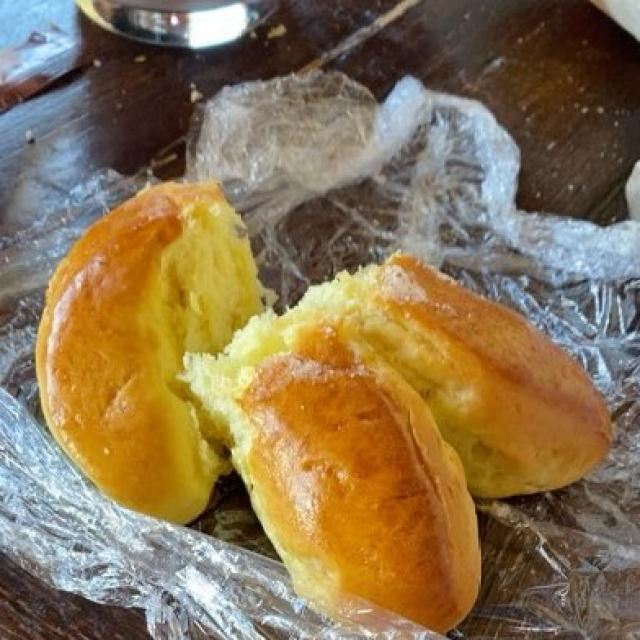brioche: (42, 172, 606, 623)
